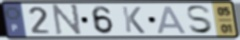2: (27, 6, 52, 35)
6: (90, 5, 115, 35)
A: (157, 5, 190, 35)
K: (120, 5, 147, 35)
N: (52, 3, 83, 37)
S: (185, 4, 215, 35)
